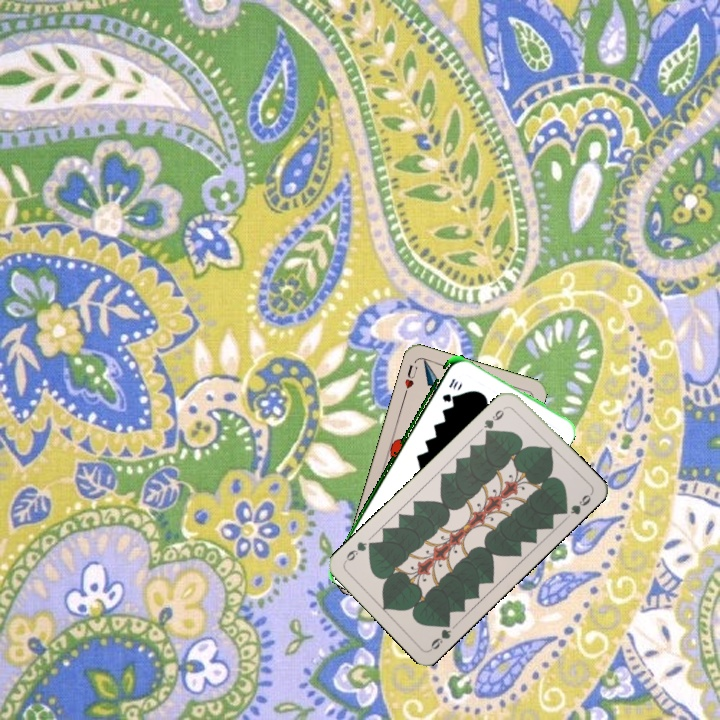G10: (438, 374, 460, 404)
G9: (479, 402, 510, 438), (426, 616, 454, 653)
HU: (400, 361, 420, 398)
